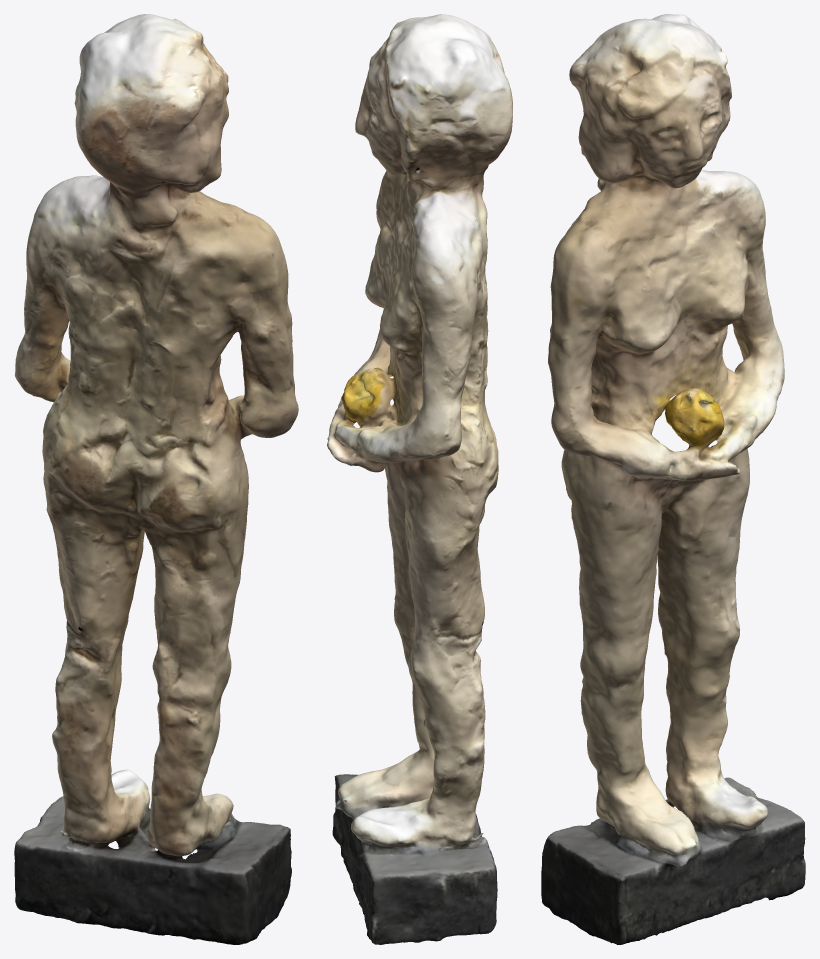
3 renders of one model, left to right at view 1: azimuth 30°, elevation 25°; view 2: azimuth 150°, elevation 25°; view 3: azimuth 270°, elevation 25°, orthographic. The views are drawn at different scales.
Bounding box in the file's own units: 0.6947 × 2.68 × 0.7347.
Materials: 40 (40 with a texture image).
